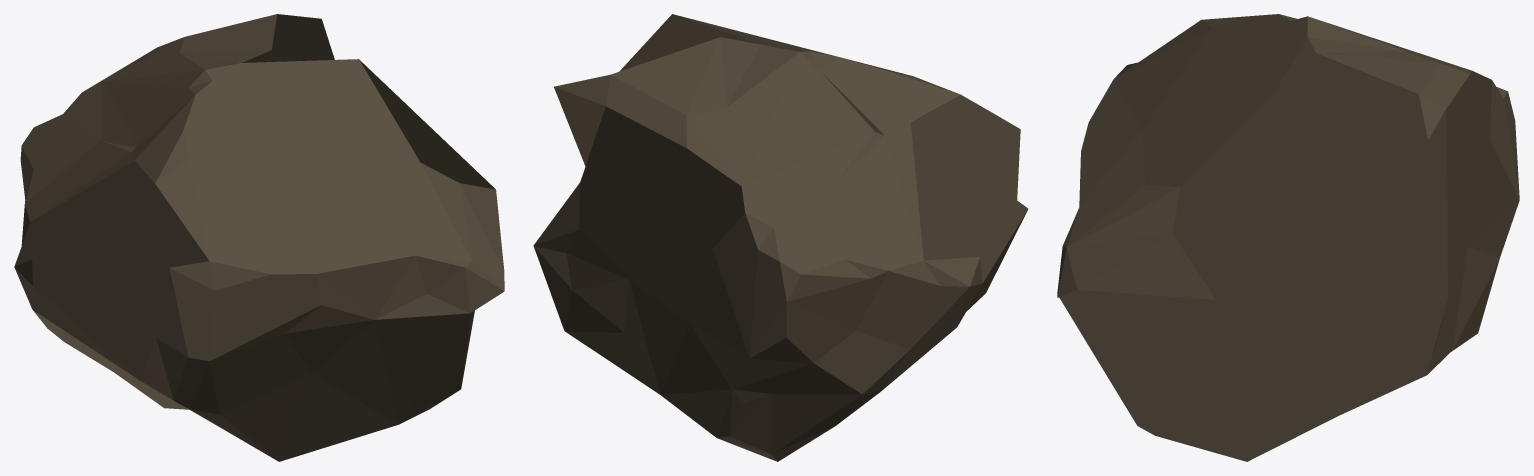
The model's file is LittleRock.fbx.
3 renders of one model, left to right at view 1: azimuth 30°, elevation 25°; view 2: azimuth 150°, elevation 25°; view 3: azimuth 270°, elevation 25°, orthographic. The views are drawn at different scales.
Visible parts, largest first — view 1: LittleStone1; view 2: LittleStone1; view 3: LittleStone1.
Part boxes in pixels (x1,y1,x2,y2): LittleStone1: (14,14,504,461); LittleStone1: (533,14,1028,461); LittleStone1: (1057,14,1519,461).
Size of the model in its own units: 176 by 142 by 158.
